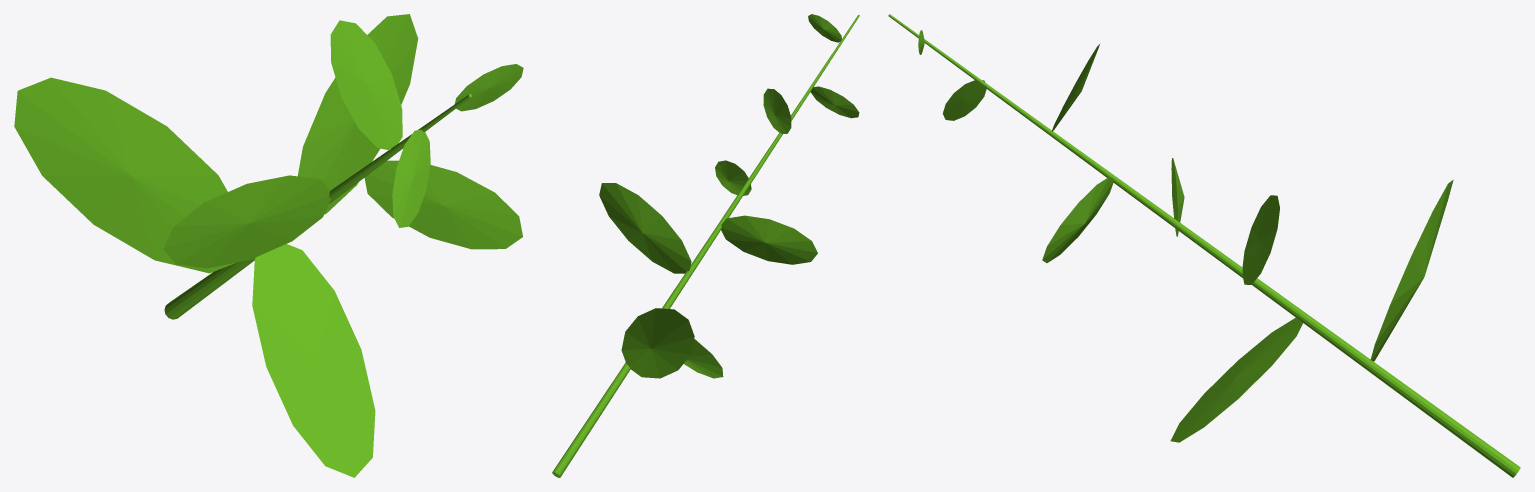
3 views of the same model, side by side, from view 1: azimuth 30°, elevation 25°; view 2: azimuth 150°, elevation 25°; view 3: azimuth 270°, elevation 25° (orthographic). The views are drawn at different scales.
Size of the model in its own units: 0.129 by 0.213 by 0.2922.
